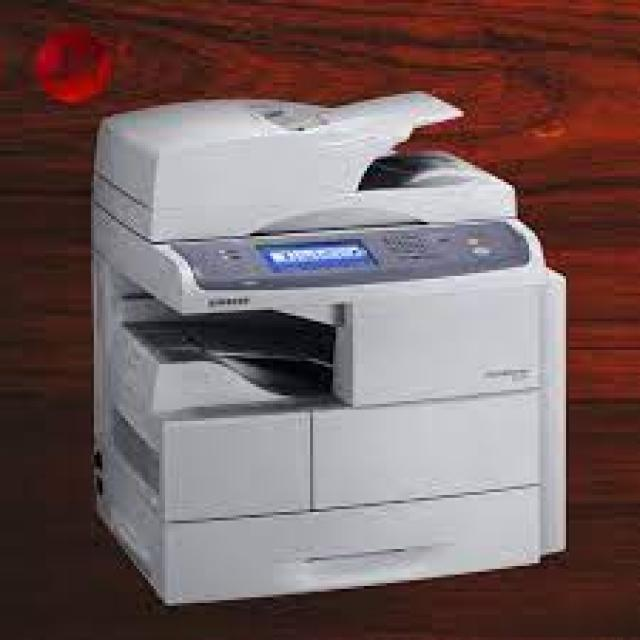printer: (92, 89, 571, 606)
